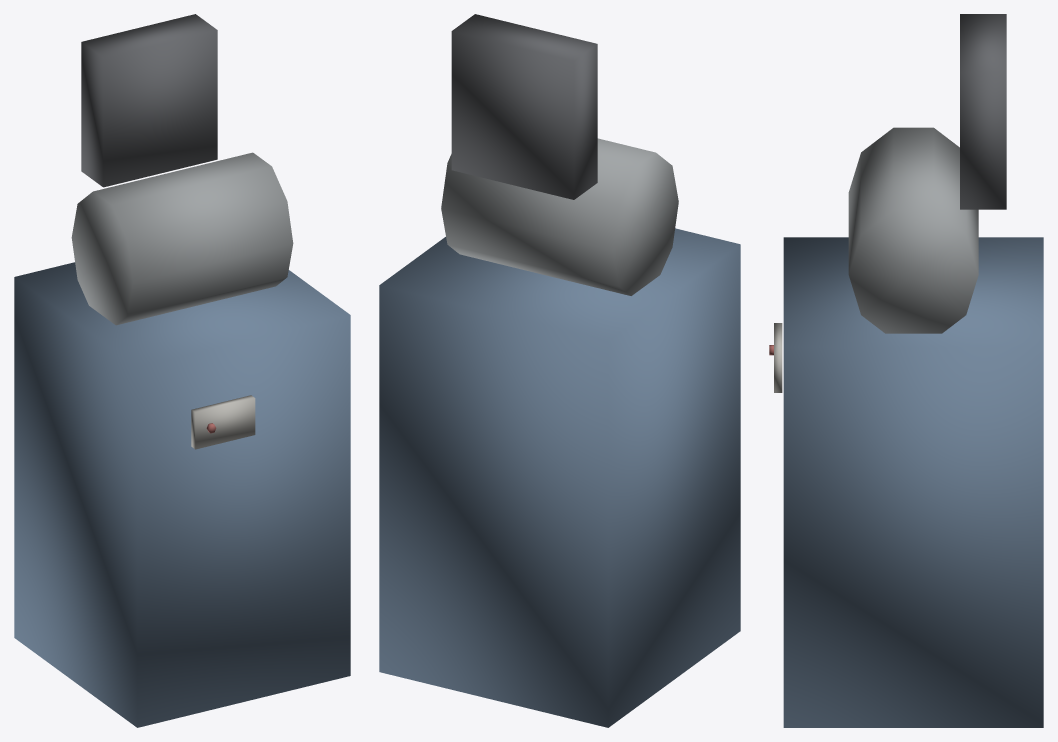
Rendered from wheel_balancer__tall.glb.
3 renders of one model, left to right at view 1: azimuth 30°, elevation 25°; view 2: azimuth 150°, elevation 25°; view 3: azimuth 270°, elevation 25°, orthographic. The views are drawn at different scales.
Visible parts, largest first — view 1: world; view 2: world; view 3: world.
Part boxes in pixels (bbox=[...]): world: bbox=[14, 14, 350, 727]; world: bbox=[379, 14, 740, 727]; world: bbox=[769, 14, 1043, 727].
Bounding box in the file's own units: 0.56 × 1.5 × 0.591.
